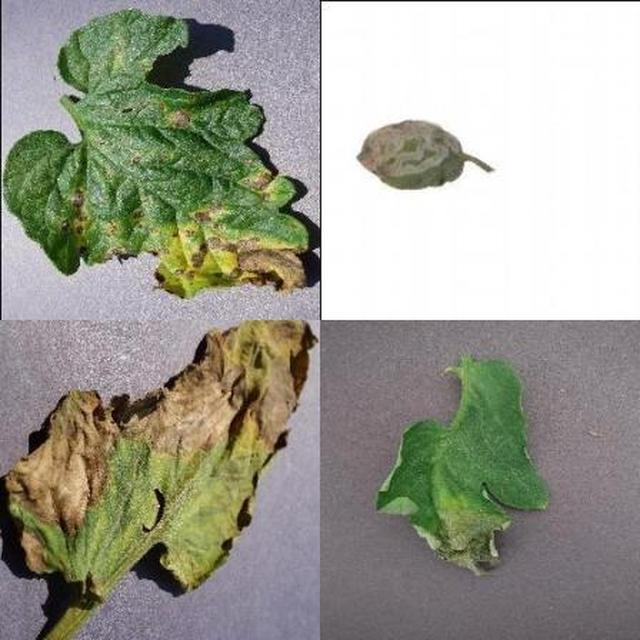Septoria Leaf: (157, 102, 640, 640)
